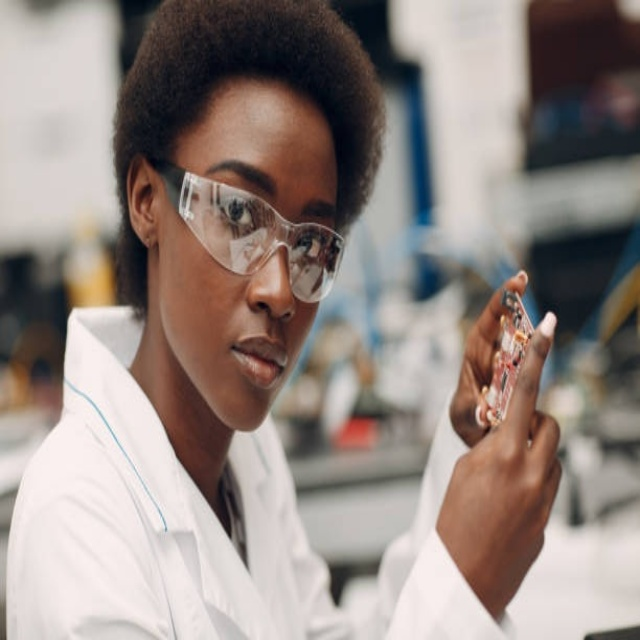Gafas: (156, 163, 346, 303)
Sin_guantes: (425, 298, 564, 608)
Sin_mascara: (223, 317, 292, 436)
